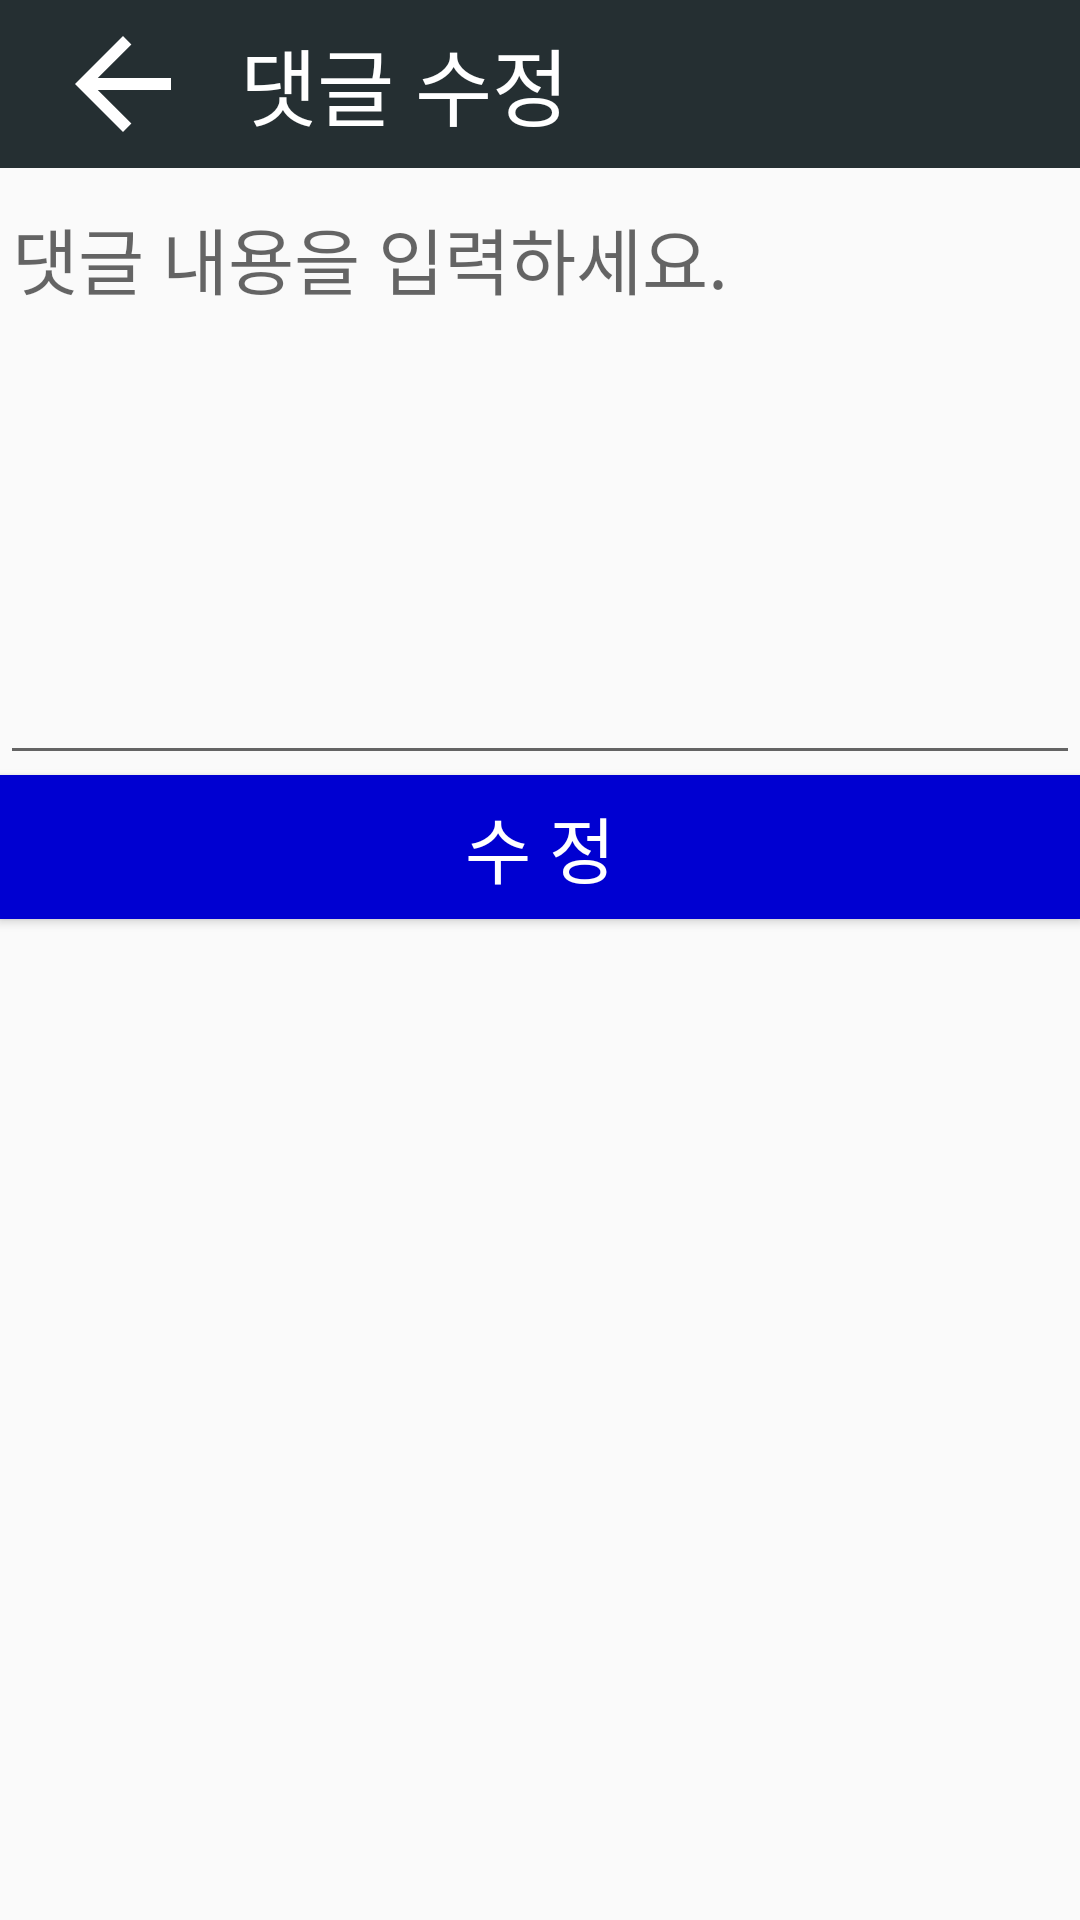

Named icons in this screenshot (1080×1920) and their centers, [x,y]:
back toolbar: [123,84]
